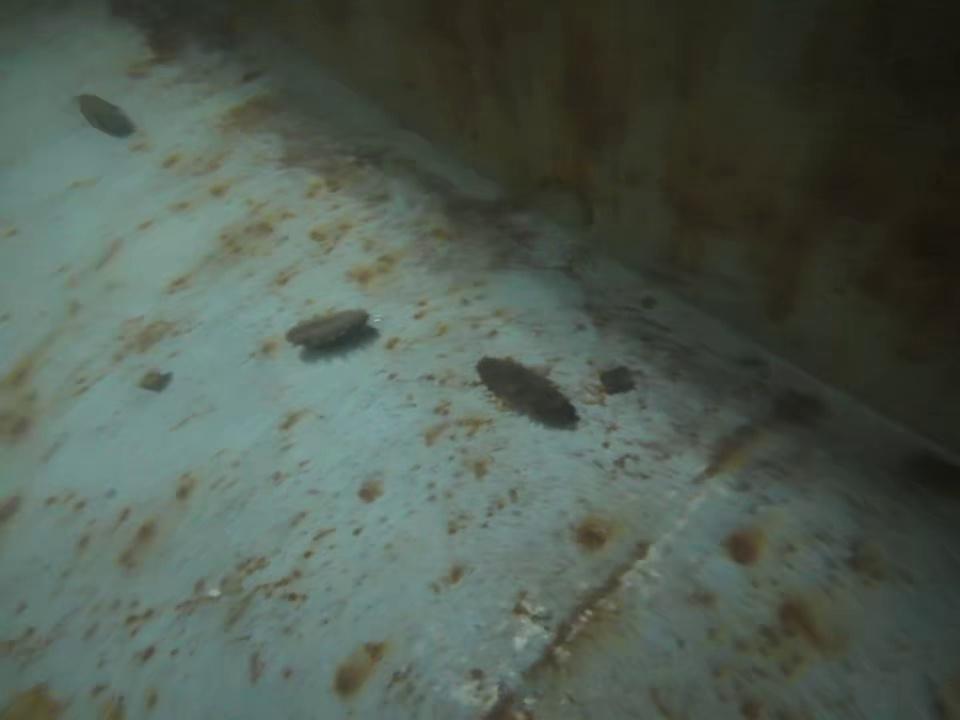seacucumber: (476, 355, 584, 431), (282, 304, 372, 356)
